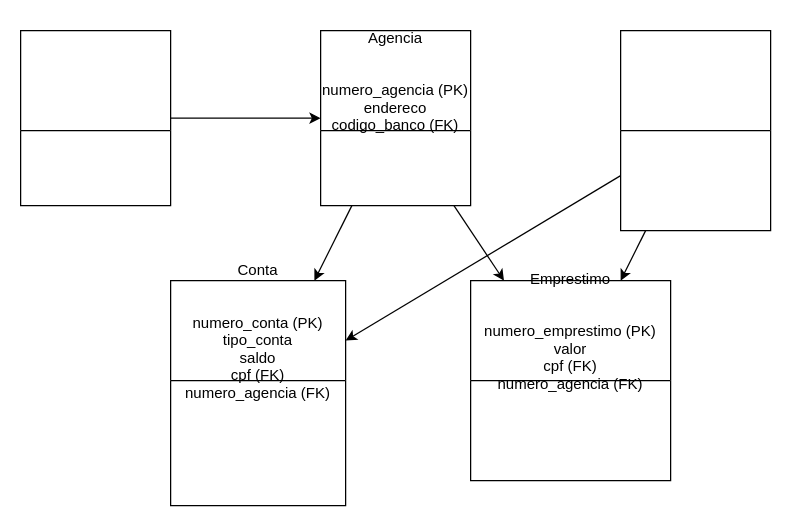
The diagram is 791 pixels wide and 526 high, and some of its shapes have lost their labels. Each missing label, with the centre of its shape:
"Banco codigo_banco (PK) nome endereco" belongs at point 95,117.
"Cliente cpf (PK) nome endereco telefone" belongs at point 695,130.
